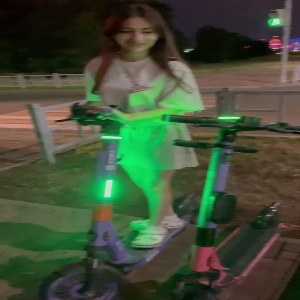human on a scooter: (36, 3, 206, 300)
